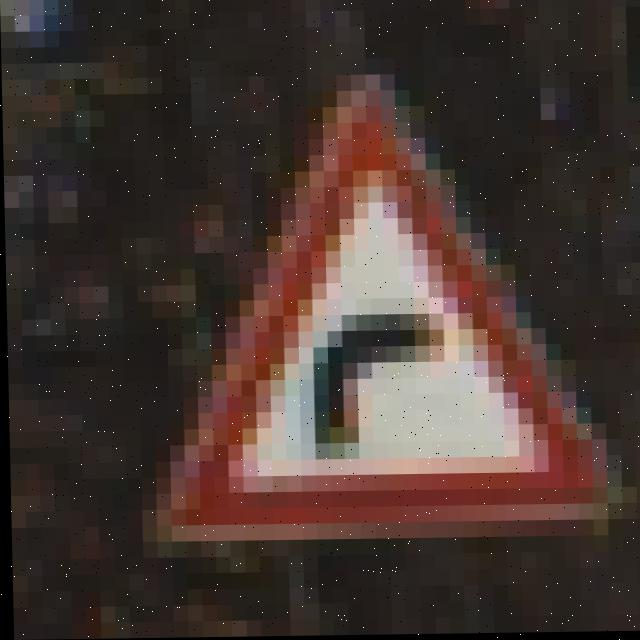right_turn: (133, 66, 638, 568)
